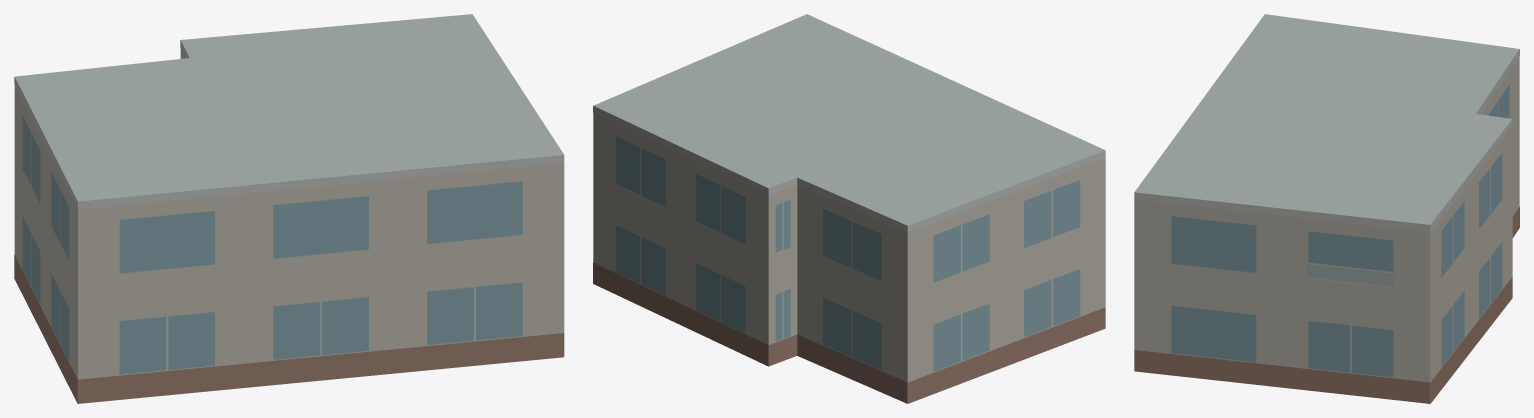
Rendered from survey-upis-32874789.glb.
The picture shows the model from 3 angles, left to right: view 1: azimuth 30°, elevation 25°; view 2: azimuth 150°, elevation 25°; view 3: azimuth 270°, elevation 25°; orthographic projection. The views are drawn at different scales.
Parts seen in each view (by area): view 1: survey-upis-32874789.tmp; view 2: survey-upis-32874789.tmp; view 3: survey-upis-32874789.tmp.
Part boxes in pixels (bbox=[...]): survey-upis-32874789.tmp: bbox=[14, 14, 564, 403]; survey-upis-32874789.tmp: bbox=[593, 14, 1105, 403]; survey-upis-32874789.tmp: bbox=[1134, 14, 1519, 403].
Size of the model in its own units: 15.42 by 6.1 by 11.91.
